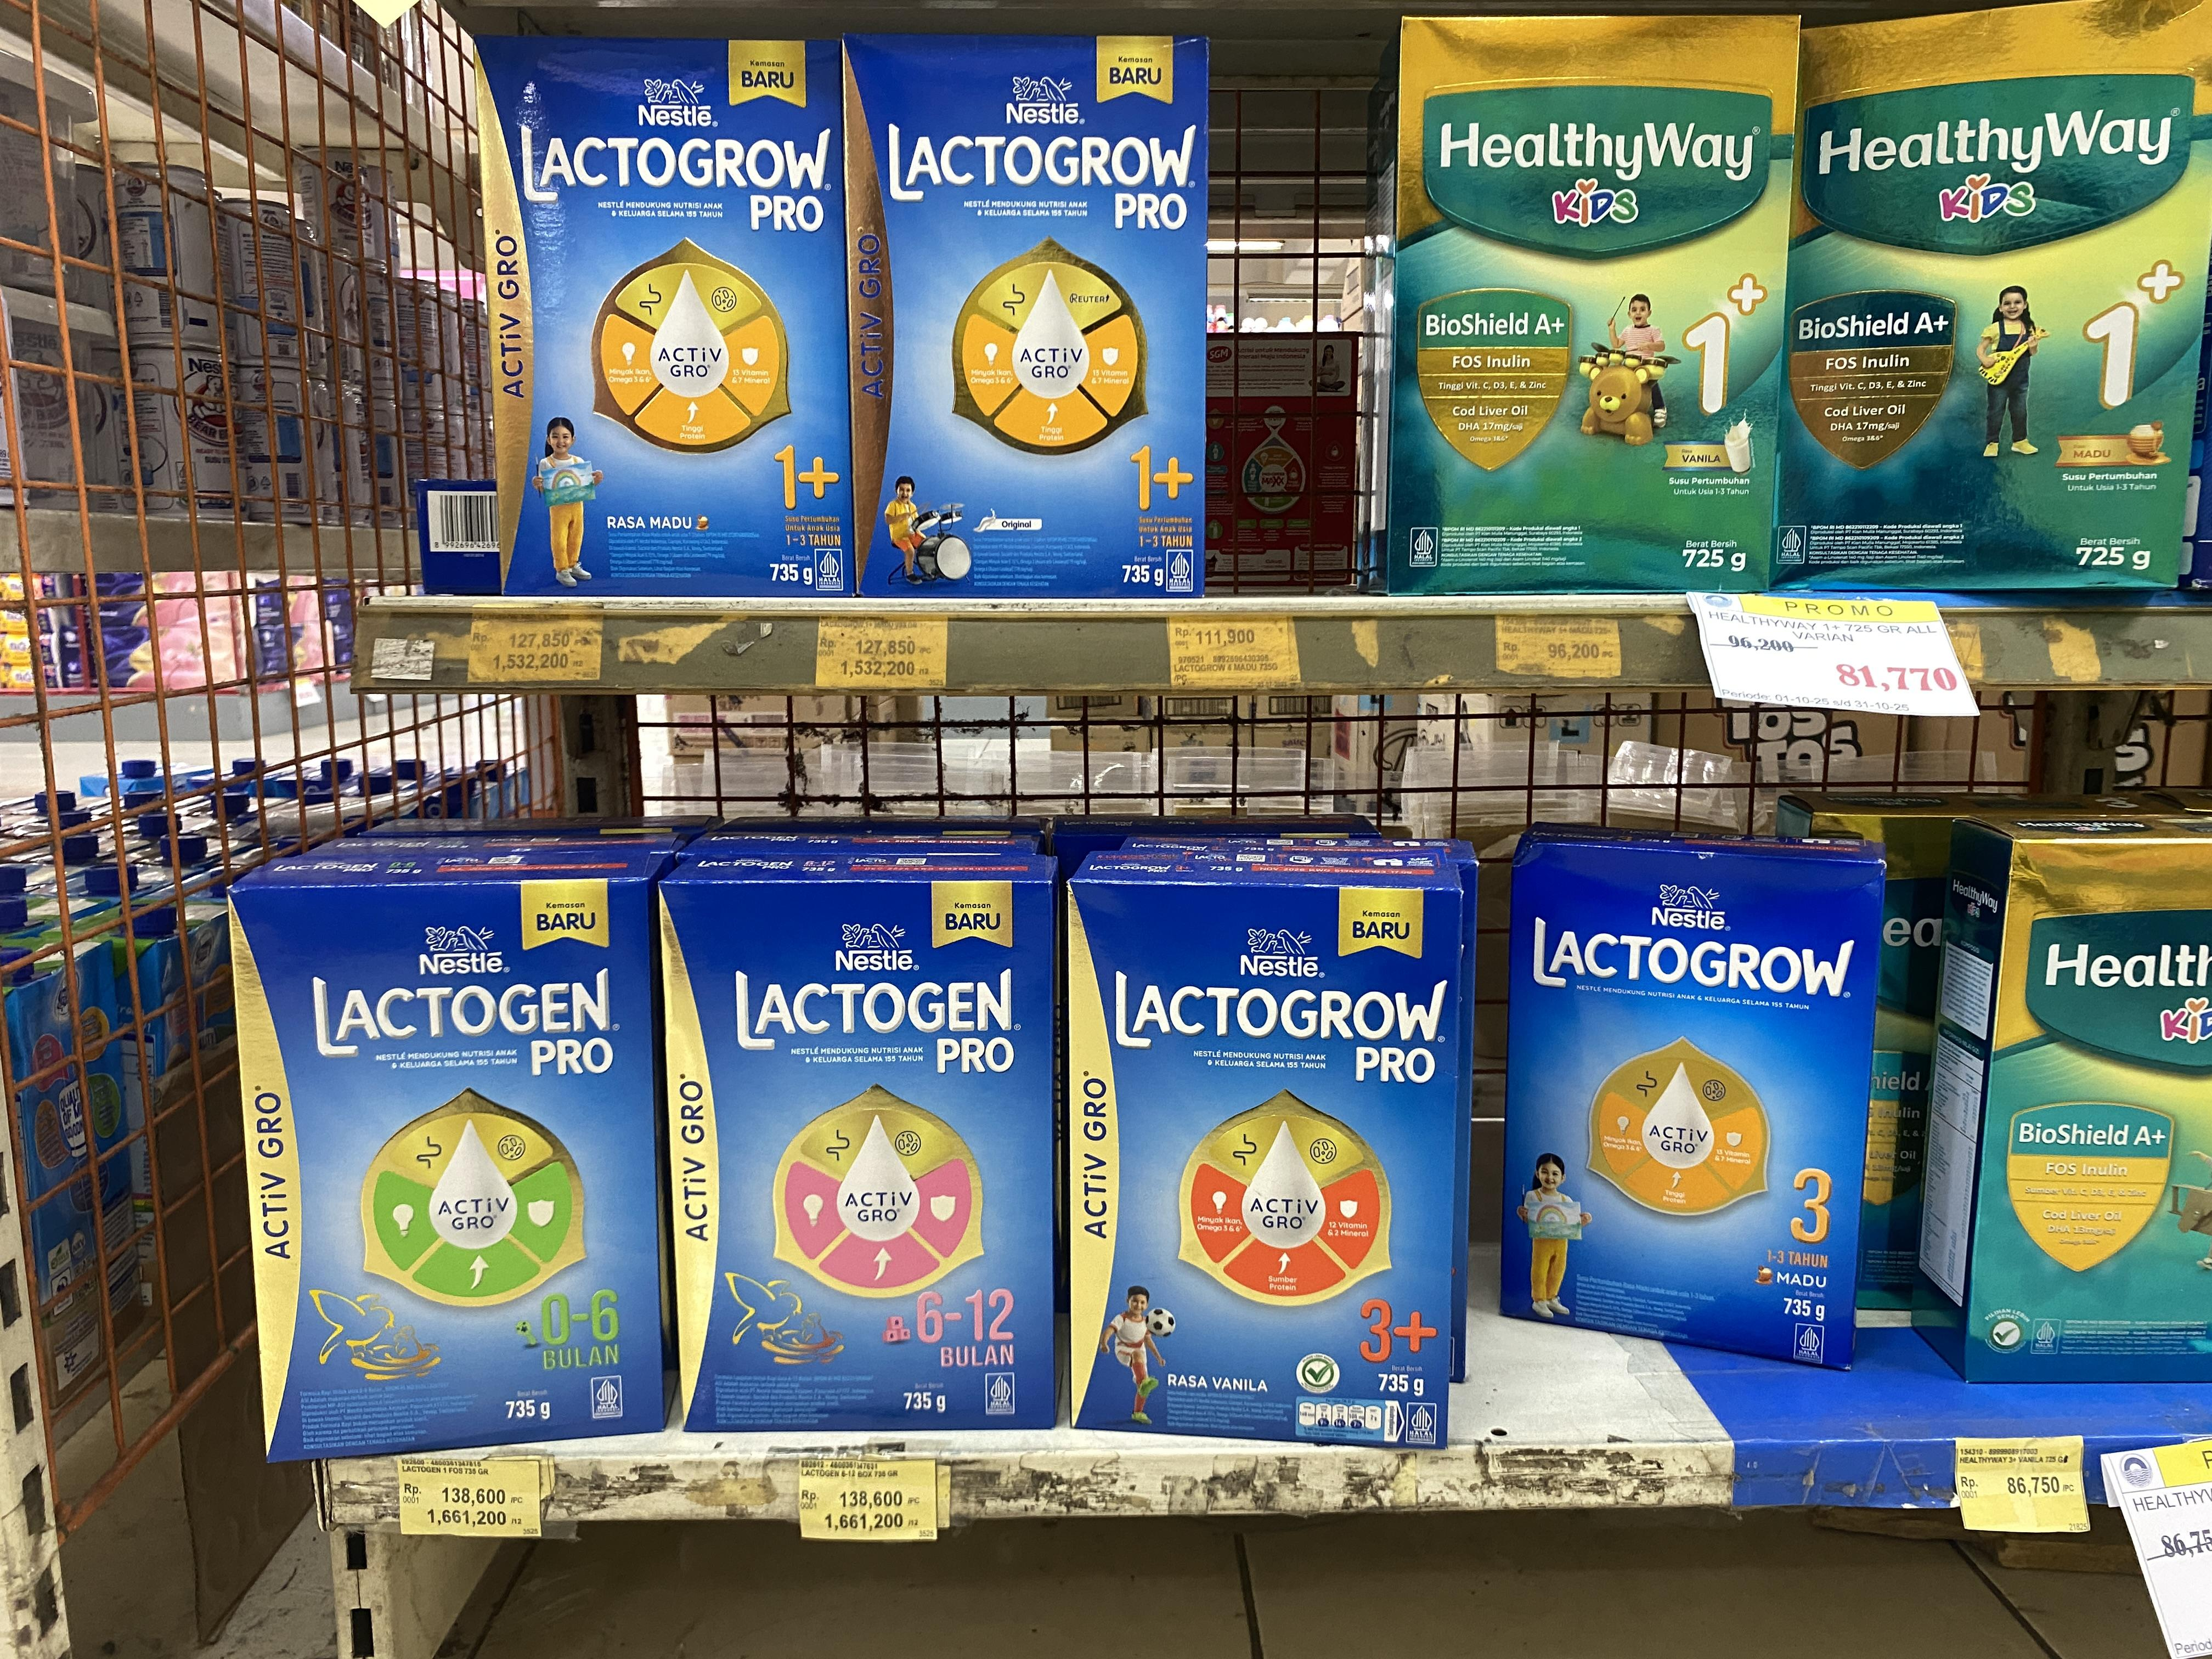LACTOGEN PRO 0-6 mo 24x350g ID: (662, 882, 1061, 1438)
LACTOGEN PRO 6-12 mo 12x735g ID: (1500, 850, 1883, 1364)
LACTOGROW 3 Happynutri Van 12x750g N1 ID_REDESIGN2: (482, 31, 850, 599)
